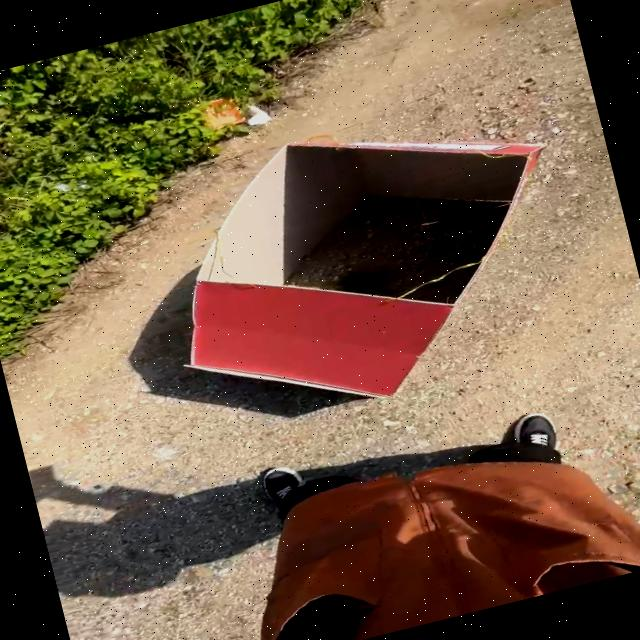red_car: (98, 62, 620, 471)
